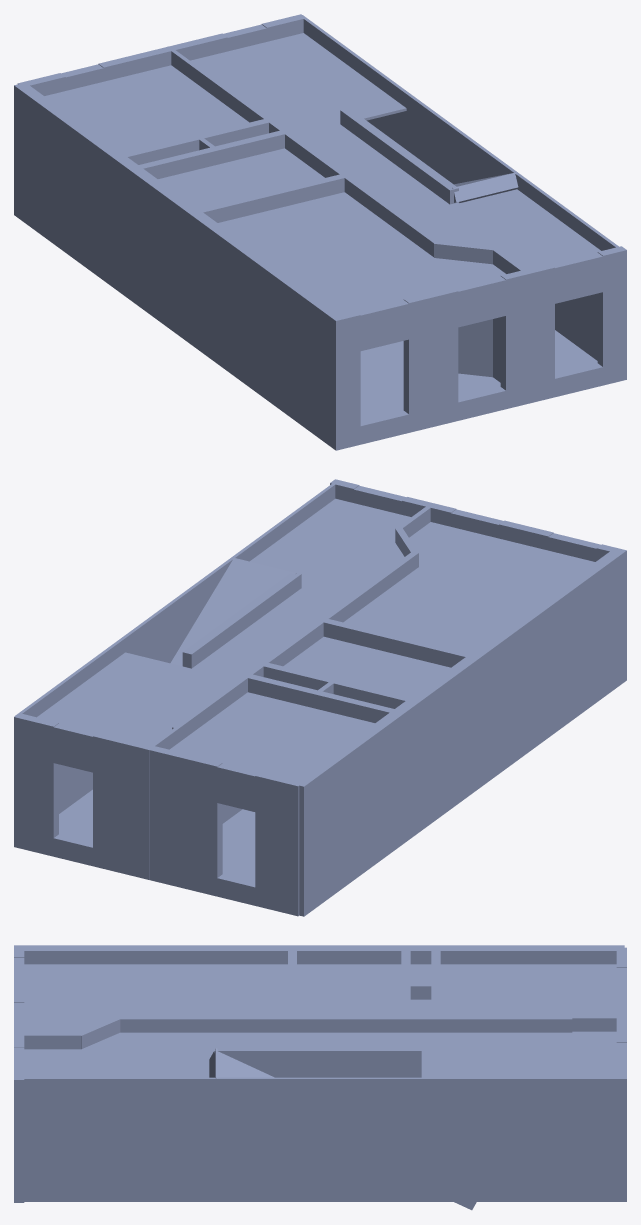
Rendered from HouseA_MidFloor_collision.fbx.
3 views of the same model, one above another, from view 1: azimuth 30°, elevation 25°; view 2: azimuth 150°, elevation 25°; view 3: azimuth 270°, elevation 25° (orthographic). The views are drawn at different scales.
Visible parts, largest first — view 1: HouseA_MidFloor_collision; view 2: HouseA_MidFloor_collision; view 3: HouseA_MidFloor_collision.
Boxes of the visible parts, <box> form: HouseA_MidFloor_collision: <box>14,14,626,450</box>; HouseA_MidFloor_collision: <box>14,479,626,916</box>; HouseA_MidFloor_collision: <box>14,945,626,1210</box>.
Size of the model in its own units: 959 by 441 by 1845.
